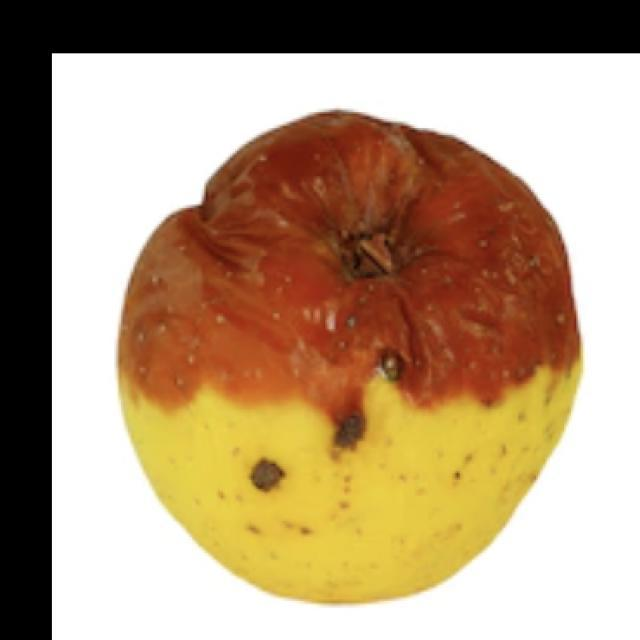Rotten: (110, 115, 582, 607)
